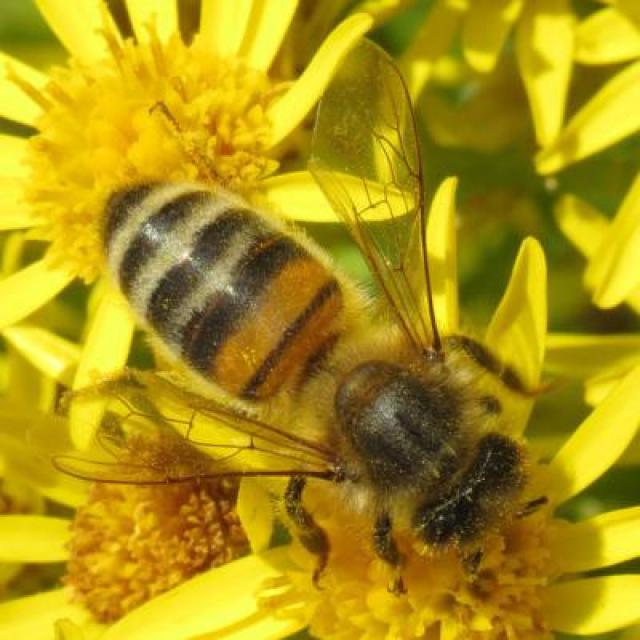antennae: (458, 546, 488, 576), (514, 498, 544, 514)
body: (96, 173, 533, 554)
insect: (51, 35, 552, 596)
legs: (430, 329, 550, 399), (280, 466, 334, 588), (371, 519, 411, 589)
wings: (310, 37, 454, 363), (51, 373, 353, 489)
